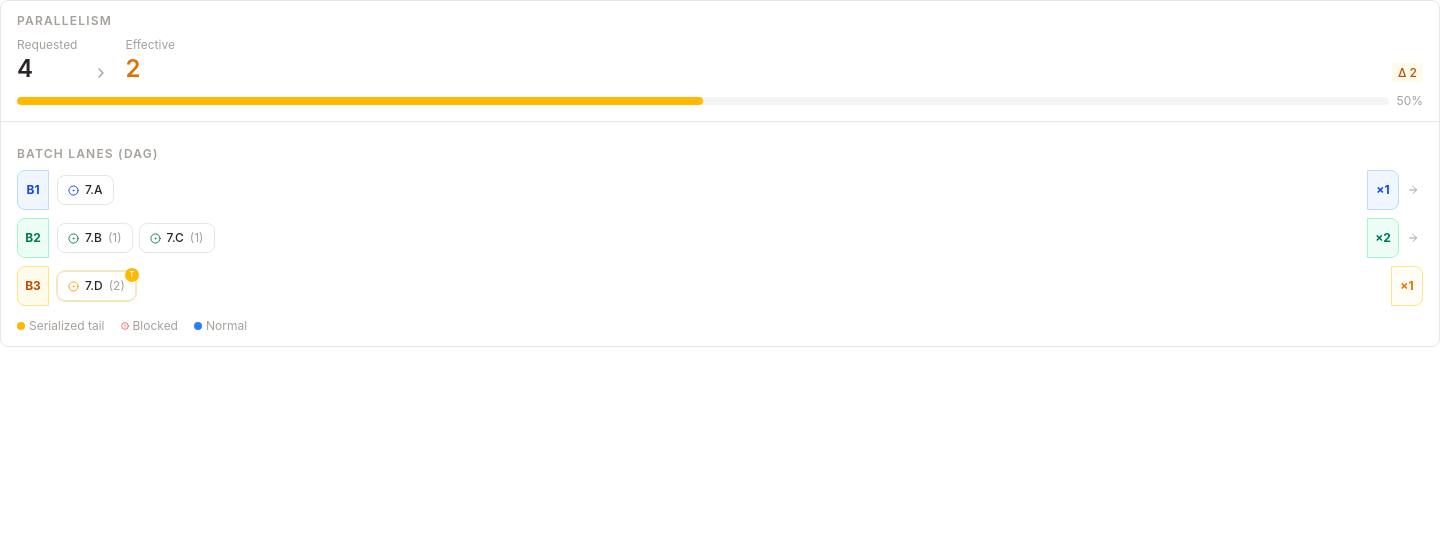
Test: AC 3: Allows dependency editing with preview-before-save › shows 'Add dependency' option
Click the button "7.A": click(85, 190) [57,175,114,205]
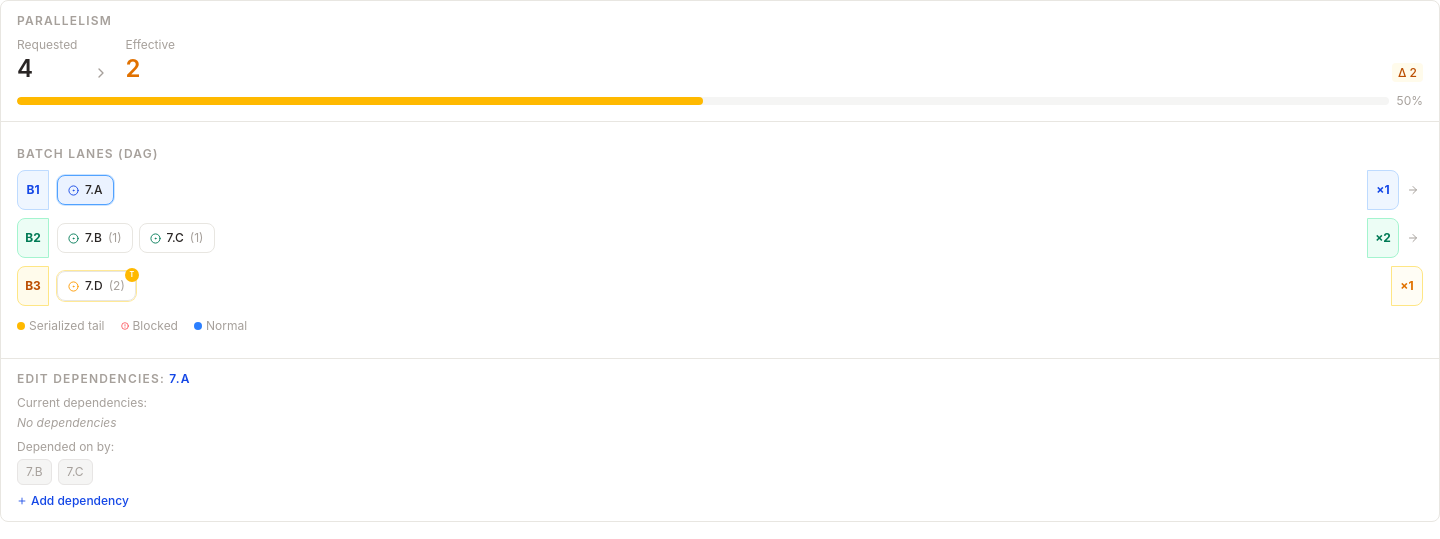
Result: the button "Add dependency" is shown at [17,493,129,509]
